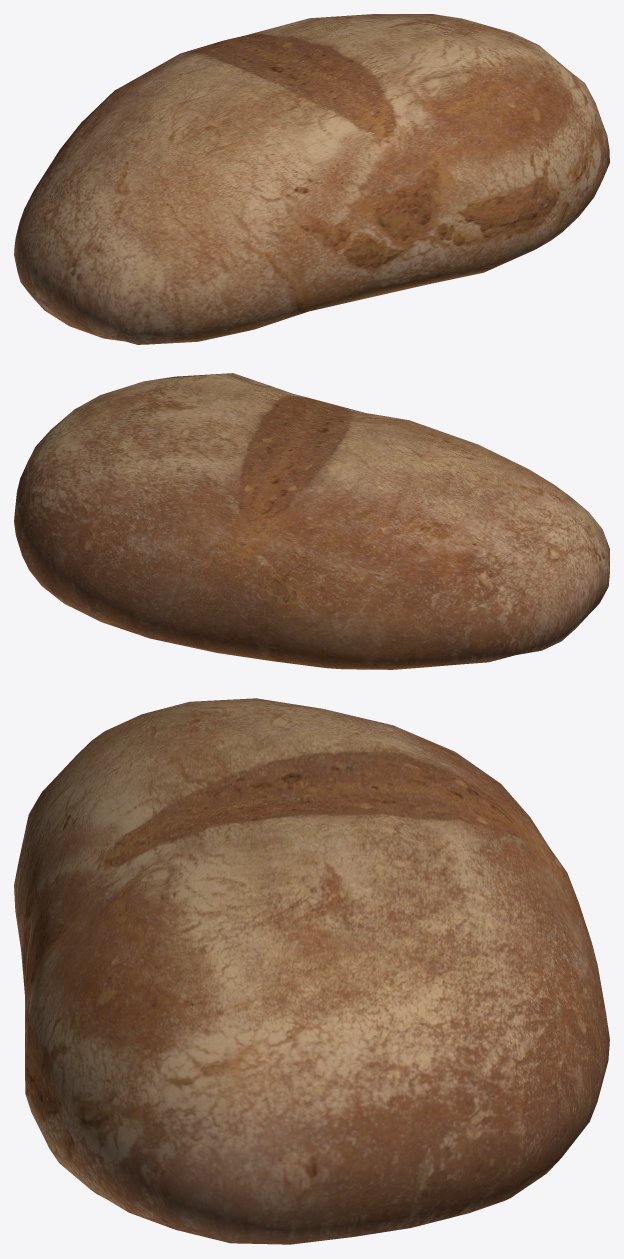
Rendered from bread_loaf.glb.
The picture shows the model from 3 angles, top to bottom: view 1: azimuth 30°, elevation 25°; view 2: azimuth 150°, elevation 25°; view 3: azimuth 270°, elevation 25°; orthographic projection. The views are drawn at different scales.
Parts seen in each view (by area): view 1: Loaf of Bread_Bread PBR.001_0; view 2: Loaf of Bread_Bread PBR.001_0; view 3: Loaf of Bread_Bread PBR.001_0.
Boxes of the visible parts, box(x1,y1,x2,y2) form: Loaf of Bread_Bread PBR.001_0: box(14, 14, 609, 344); Loaf of Bread_Bread PBR.001_0: box(14, 373, 609, 669); Loaf of Bread_Bread PBR.001_0: box(14, 698, 609, 1244).
Size of the model in its own units: 3.74 by 1.2 by 2.26.
Materials: 1 (1 with a texture image).
